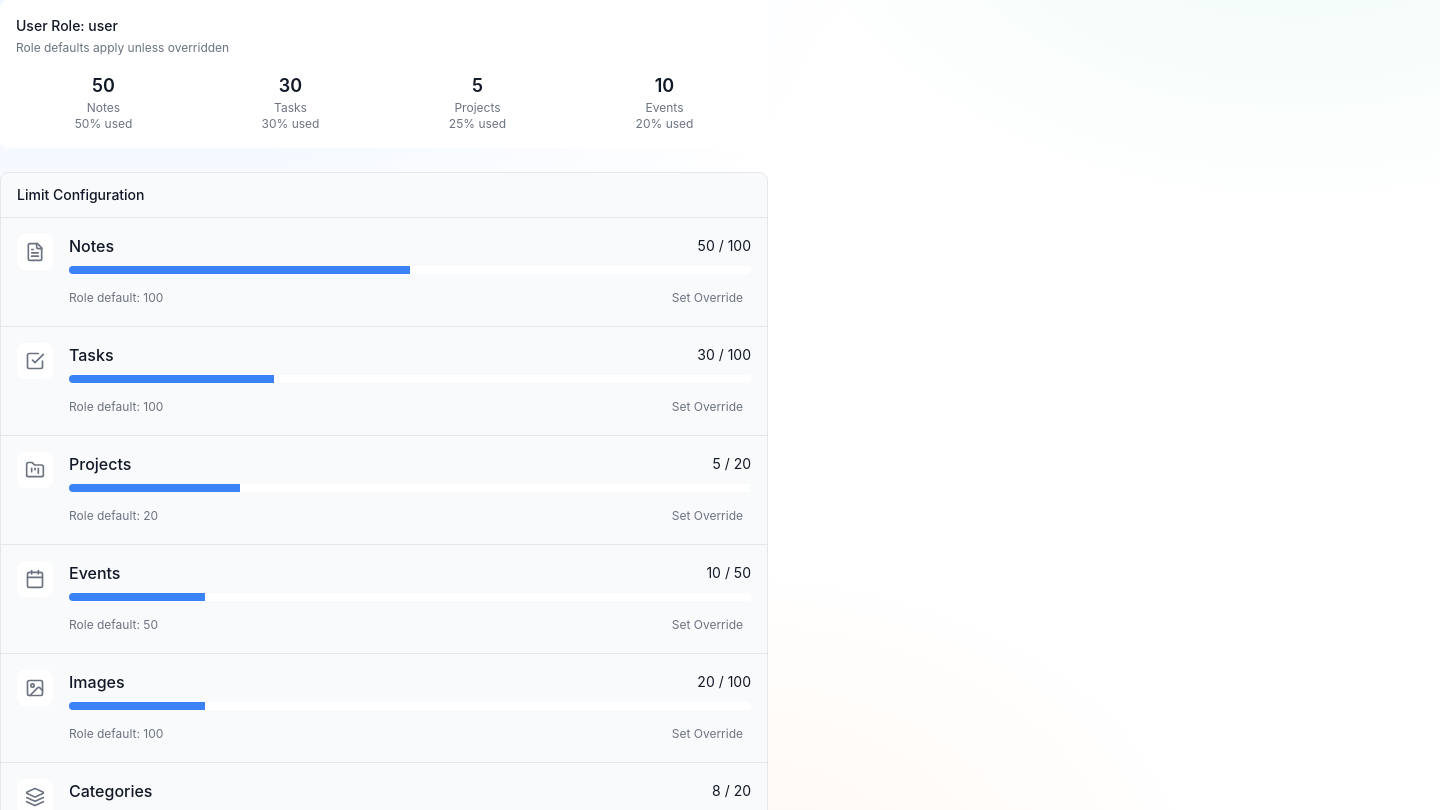
UserLimitsTab › shows Save Changes button when there are pending changes
This screenshot has width=1440, height=810.
Note: Click Set Override on first item
Click the 1st button "Set Override": {"x": 707, "y": 298} x1=664 y1=286 x2=751 y2=310
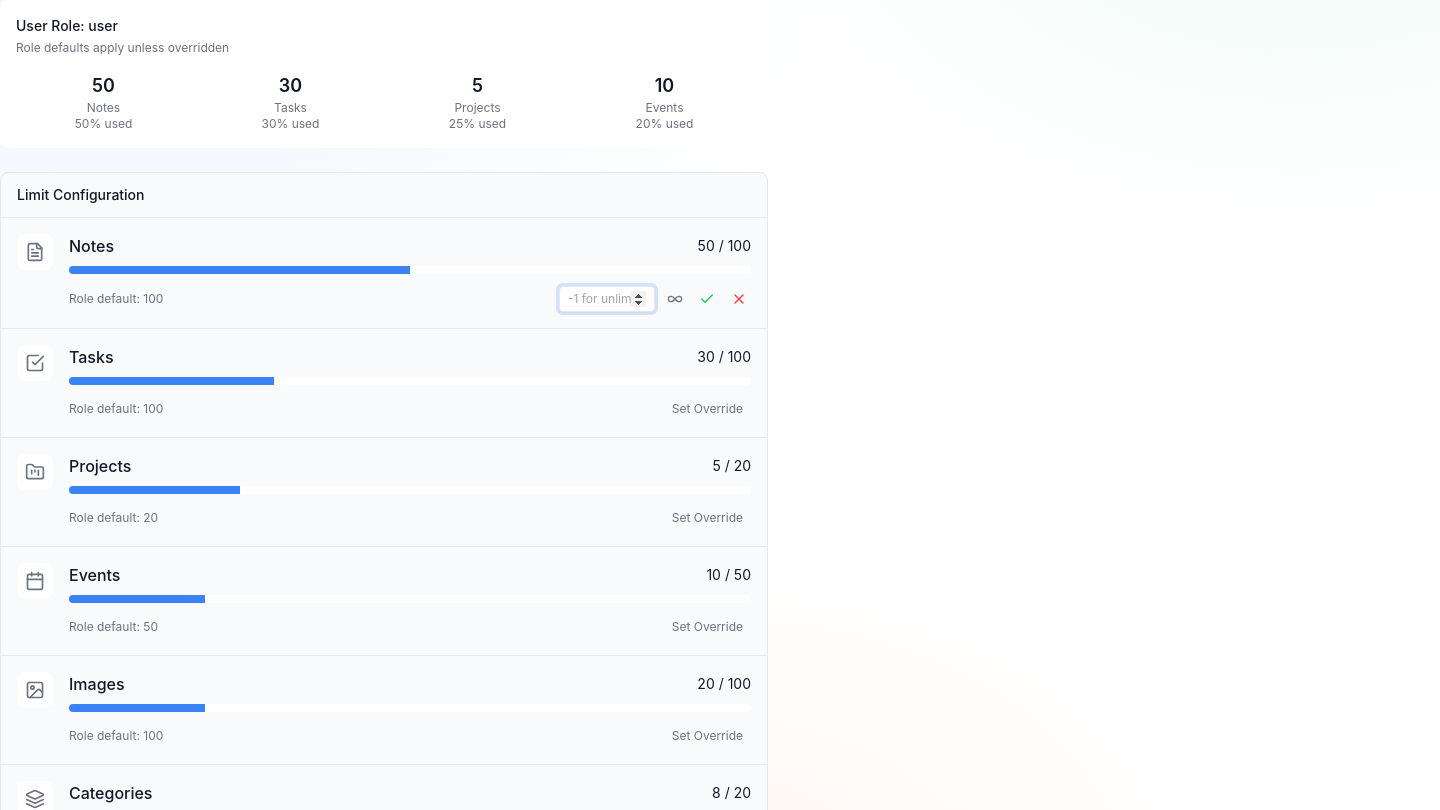
Note: Type a value
In the number field: {"x": 607, "y": 299} x1=559 y1=286 x2=655 y2=312, type "200"
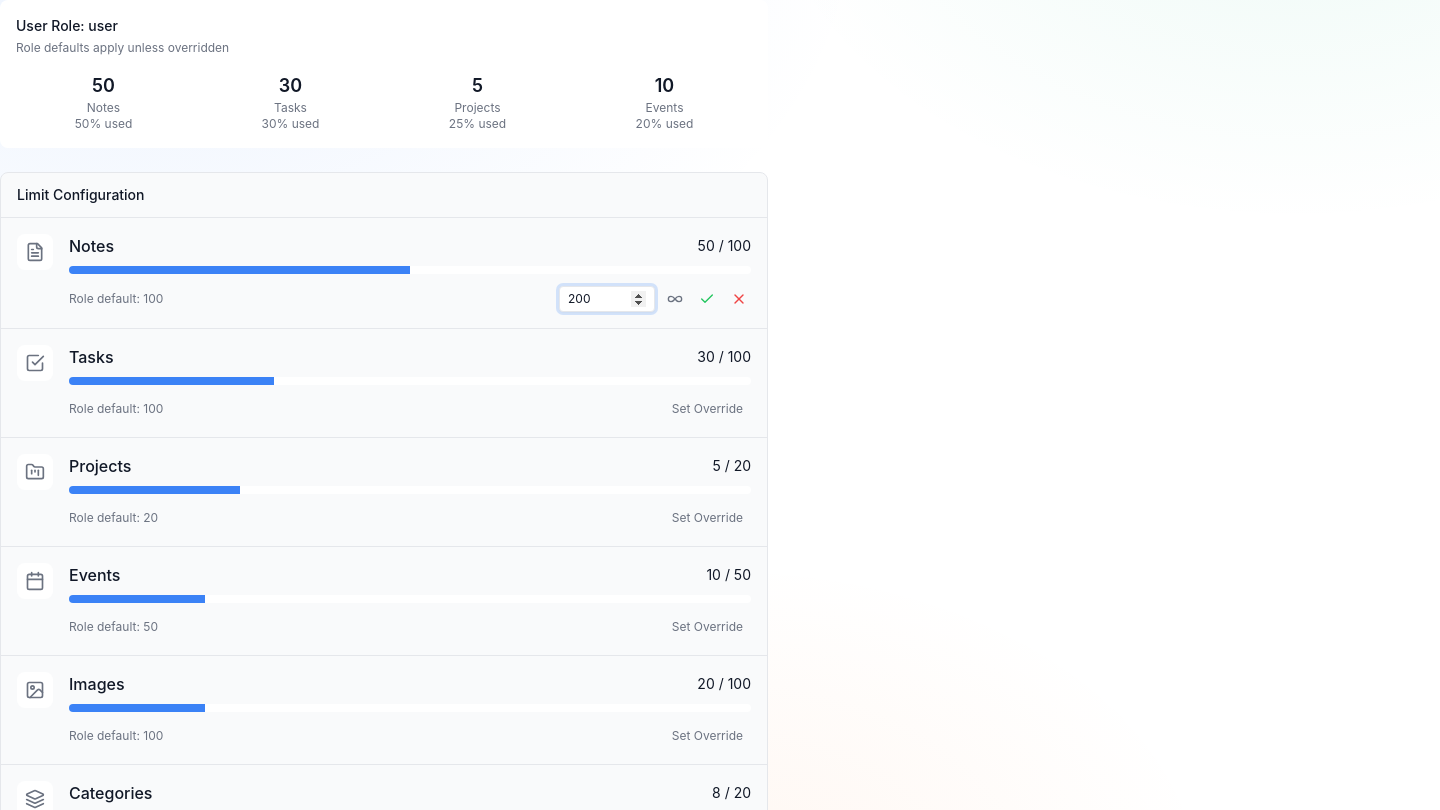
Note: Click save on the row
Click the button titled "Save": {"x": 707, "y": 299} x1=695 y1=287 x2=719 y2=311
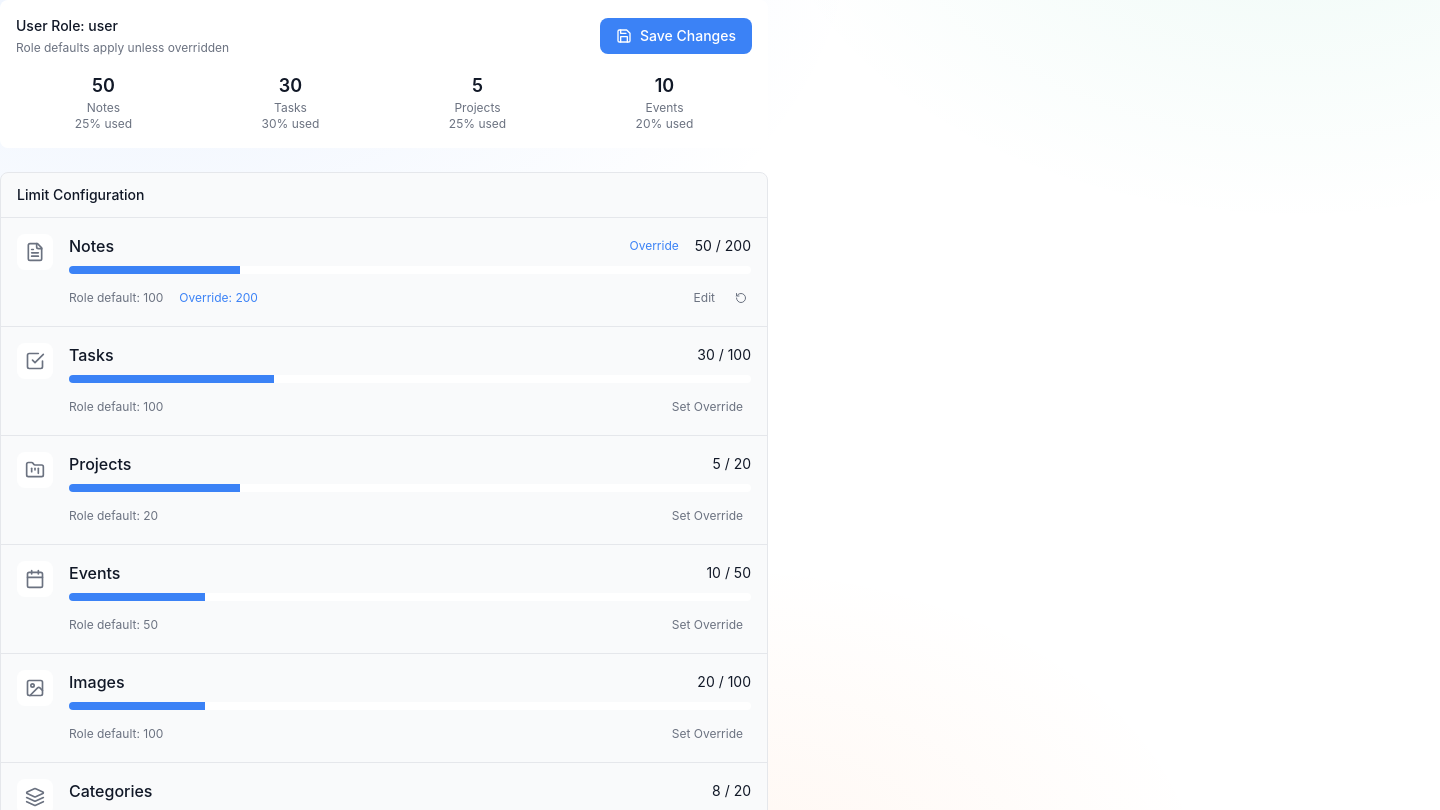
Expected: the button "Save Changes" is shown, x1=600 y1=18 x2=752 y2=54
